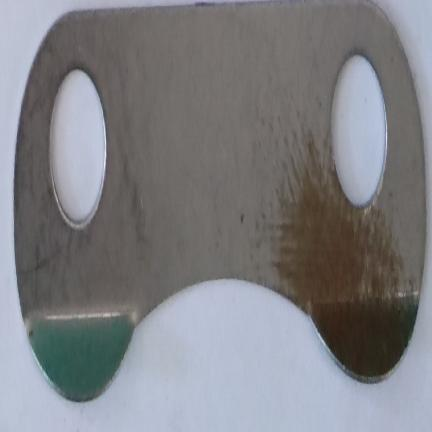karat: (280, 131, 402, 360)
